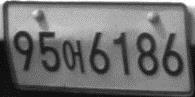1: (112, 31, 131, 75)
5: (37, 30, 61, 74)
6: (161, 32, 183, 77), (88, 32, 110, 74)
8: (135, 31, 158, 76)
9: (12, 29, 35, 72)
어: (61, 39, 86, 75)
